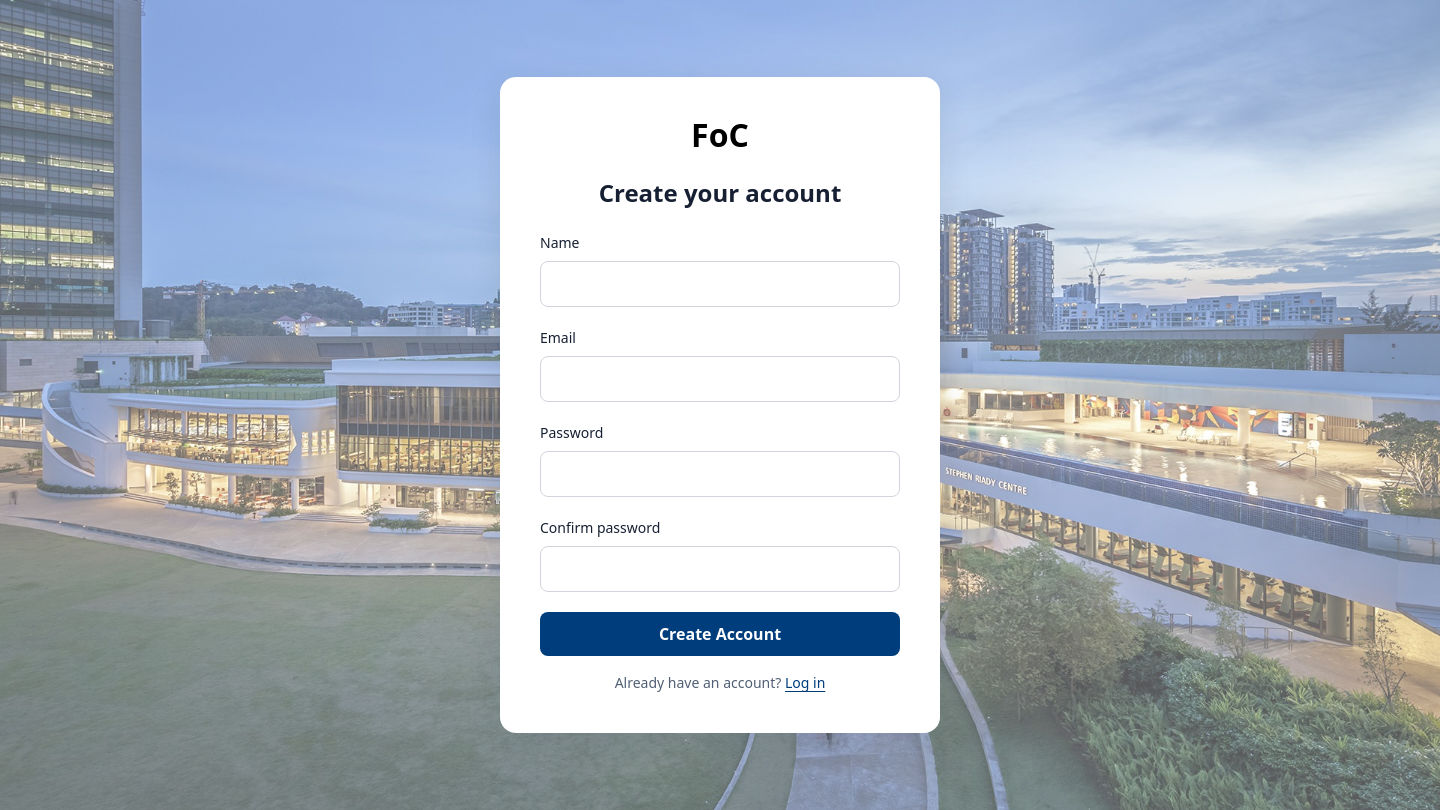
Scenario: RegisterPage › handles a network failure without navigating
Expected: the heading "Create your account" is shown, left=599, top=176, right=841, bottom=209
Type " Jamie " into the field labelled "Name". click: {"x": 720, "y": 284}
box: left=540, top=262, right=900, bottom=308
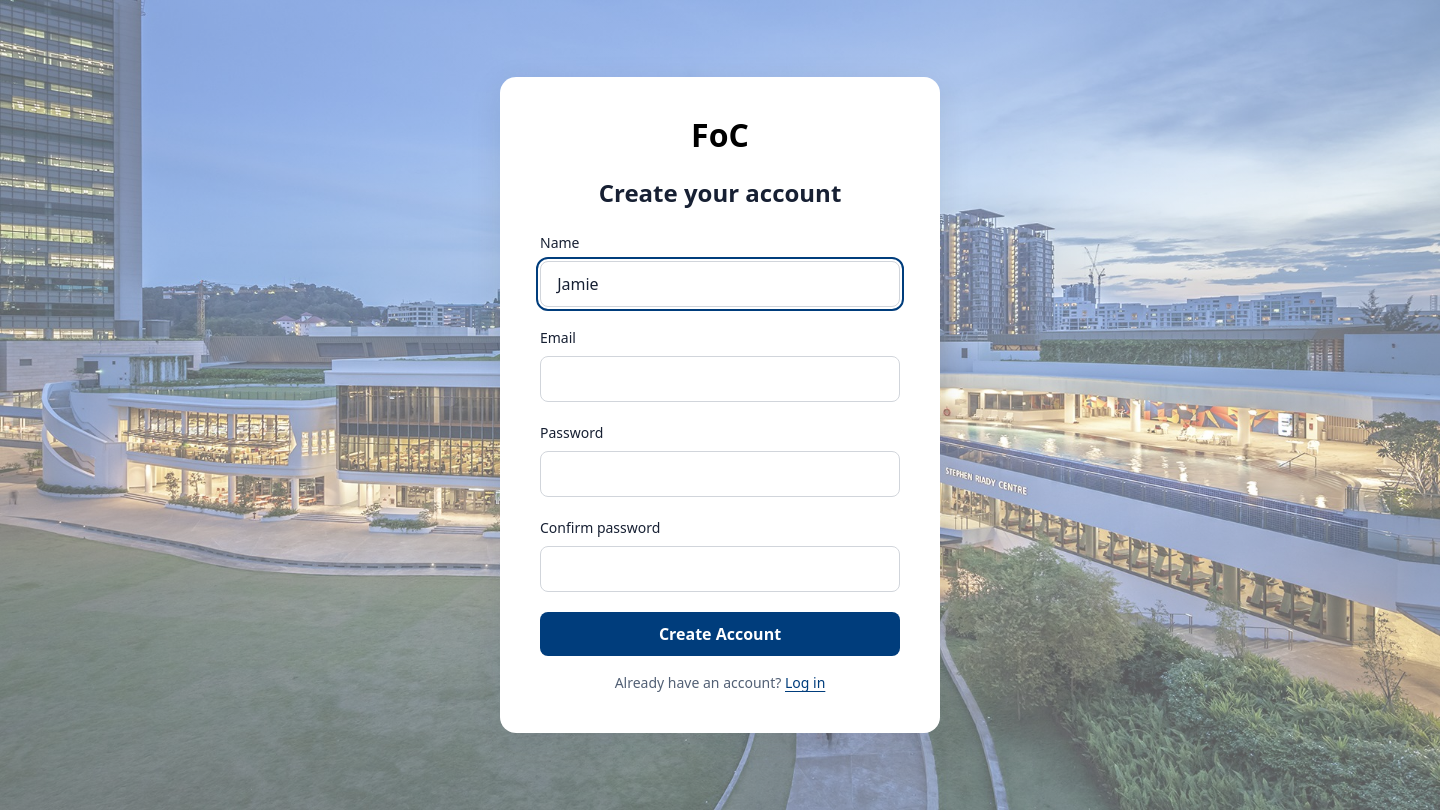
Type " JAMIE@U.NUS.EDU " into the field labelled "Email". click: {"x": 720, "y": 380}
box: left=540, top=356, right=900, bottom=402
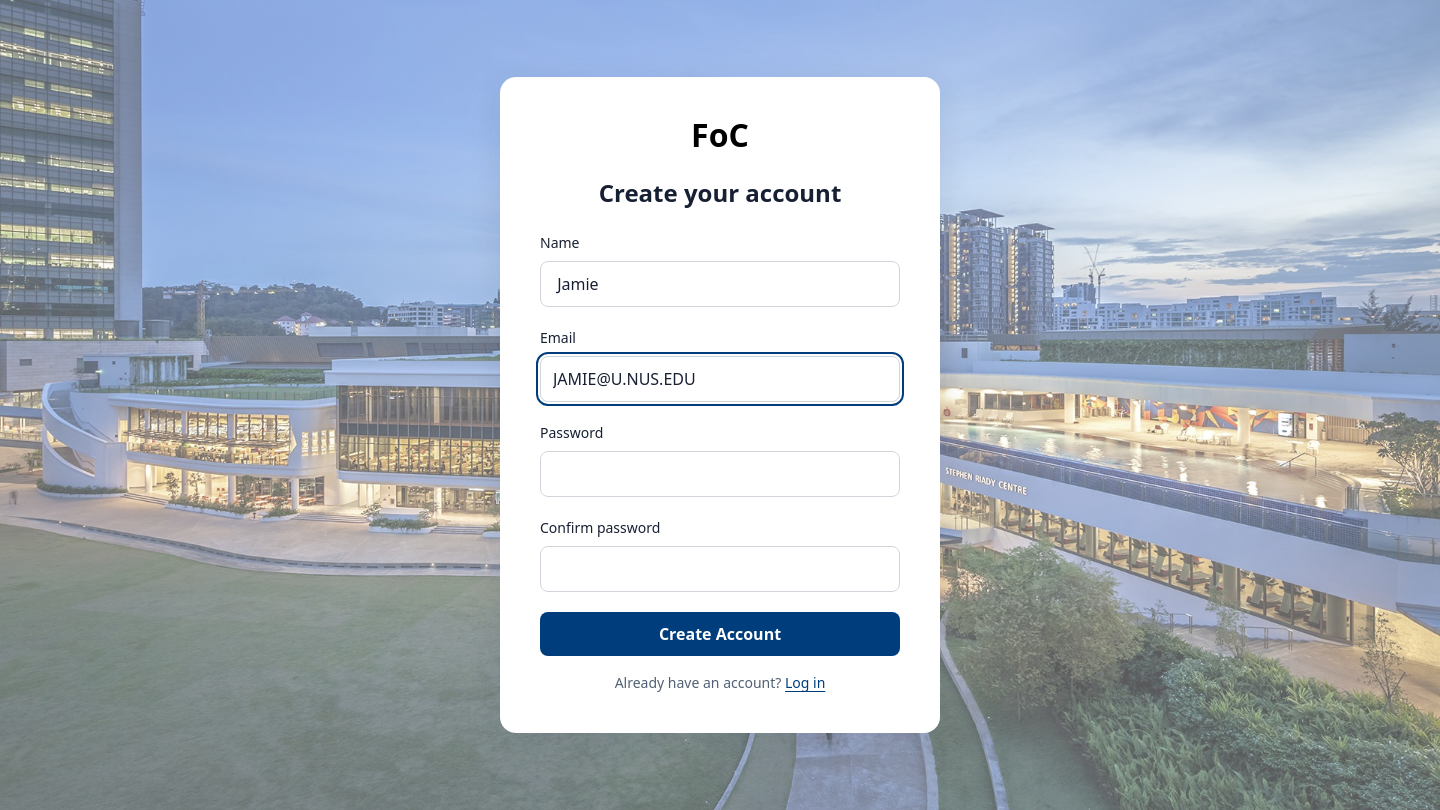
Type " password123 " into the password field labelled "Password". click: {"x": 720, "y": 474}
box: left=540, top=452, right=900, bottom=498
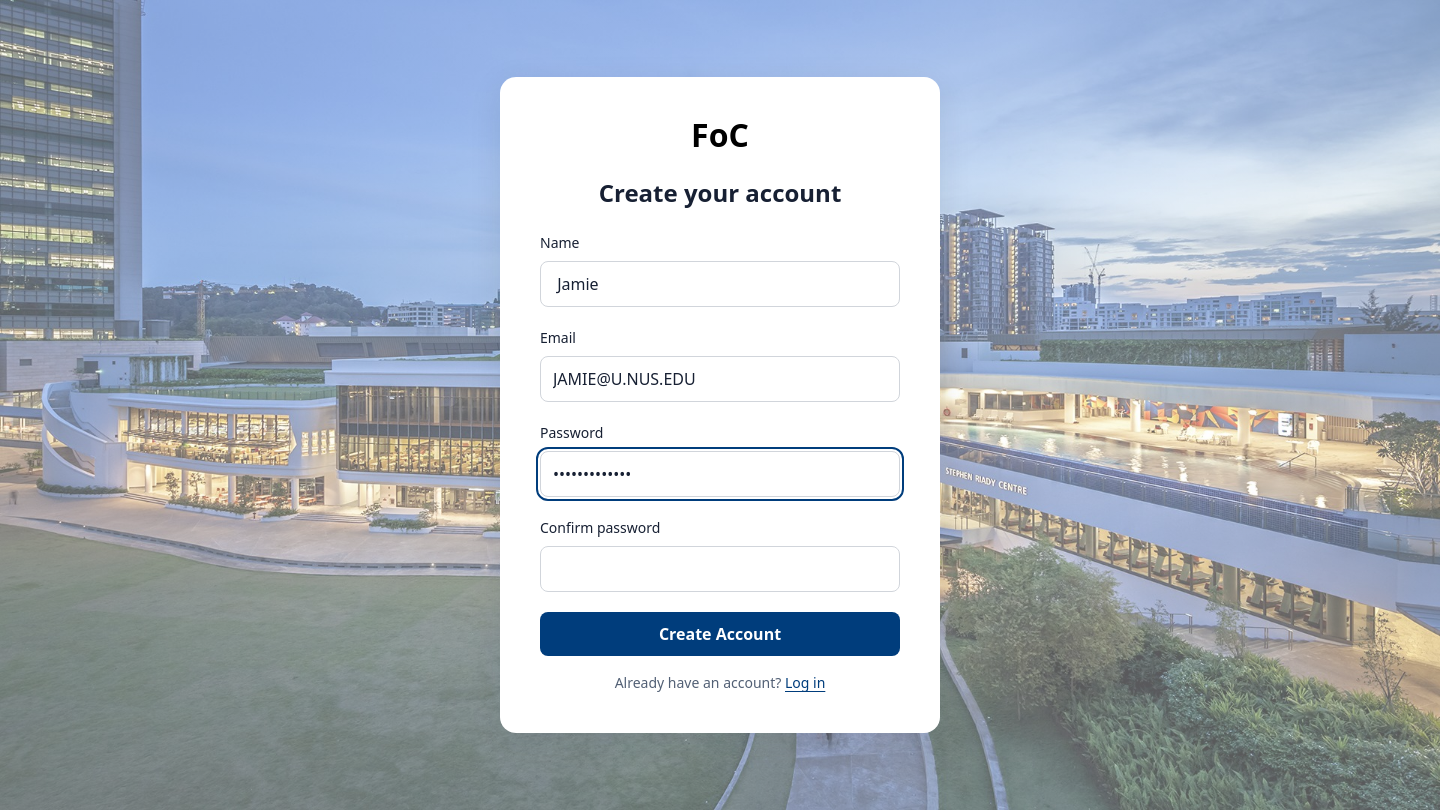
Type " password123 " into the password field labelled "Confirm password". click: {"x": 720, "y": 570}
box: left=540, top=546, right=900, bottom=592
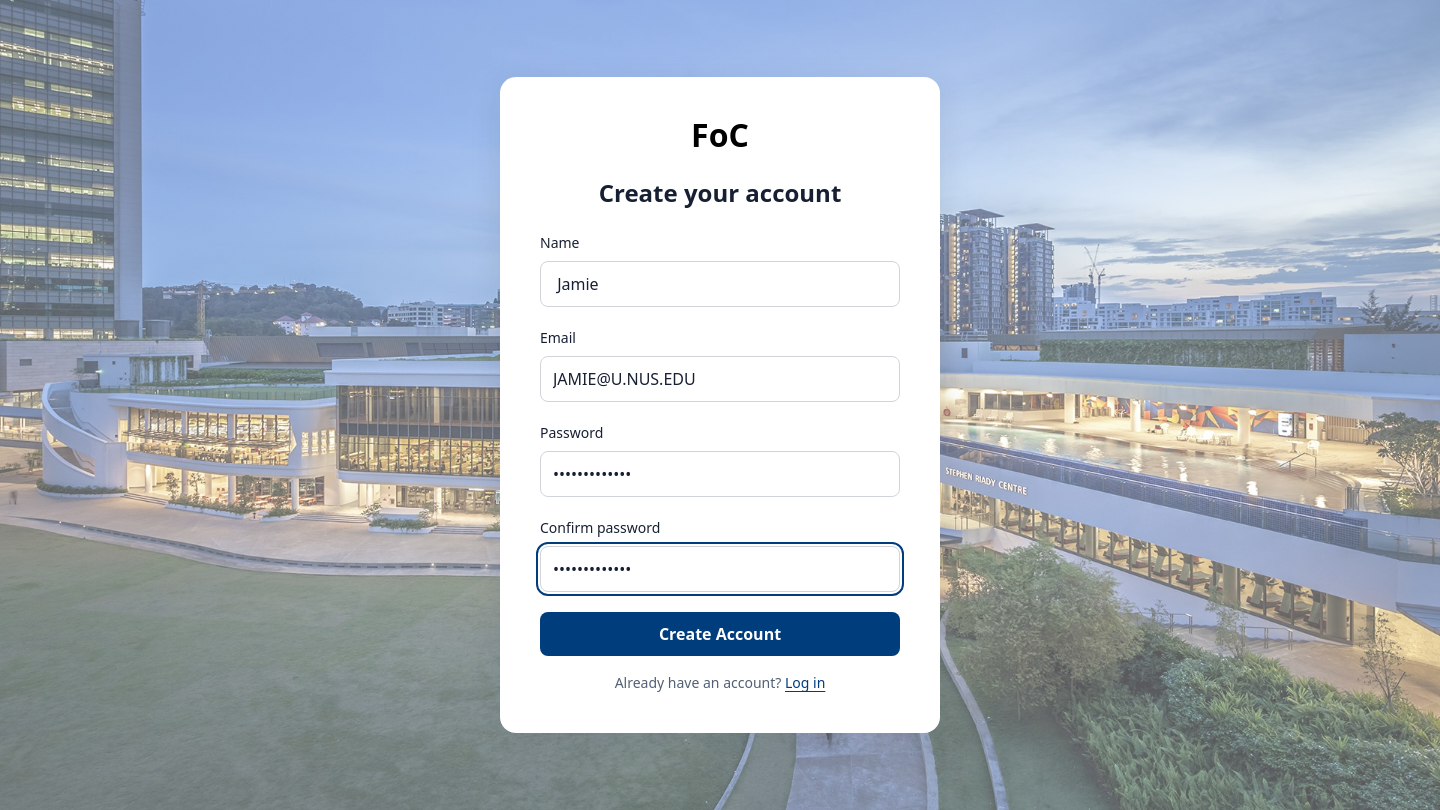
Click the button "Create Account". click: {"x": 720, "y": 634}
box: left=540, top=612, right=900, bottom=656
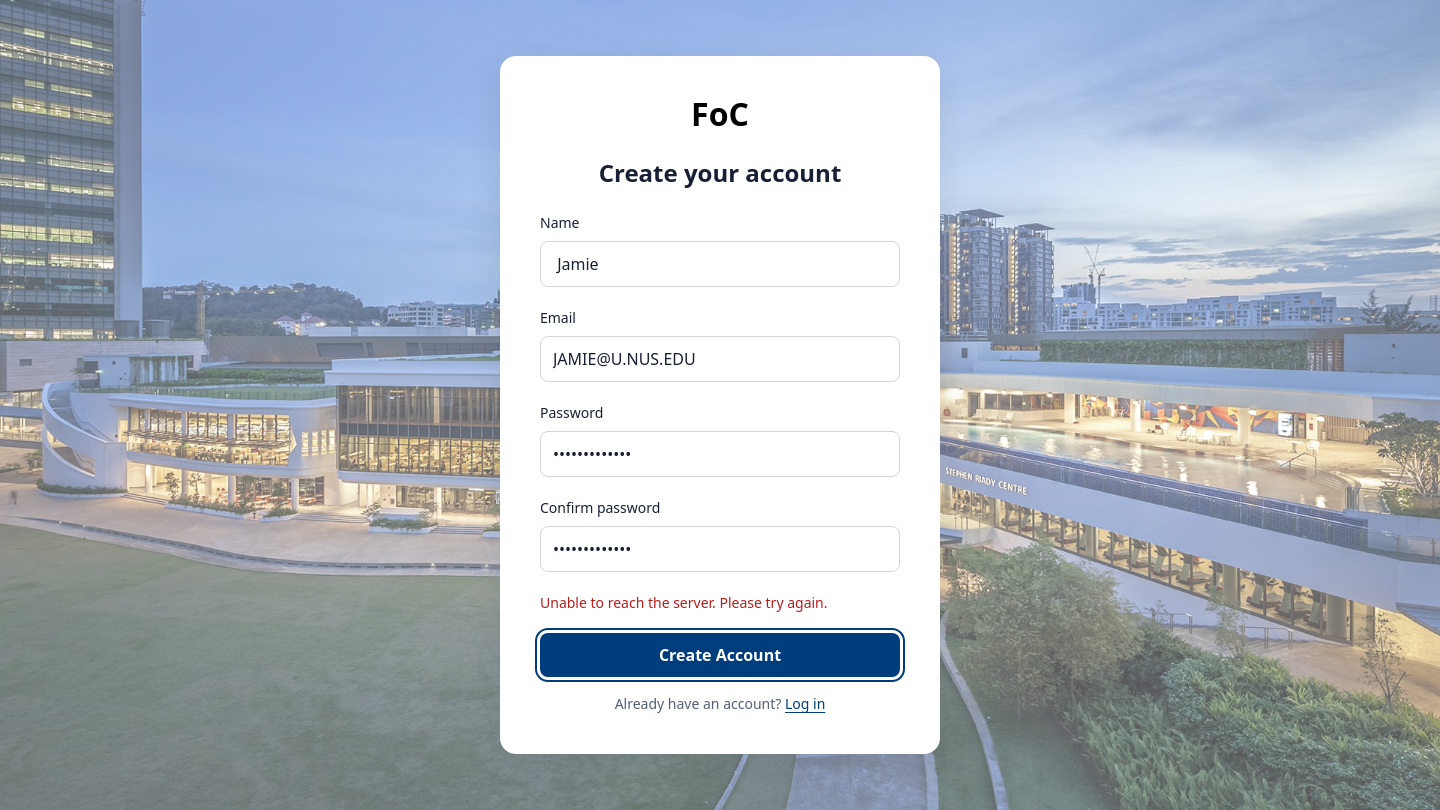
Expected: the button "Create Account" is enabled, left=540, top=633, right=900, bottom=677
Expected: the message reads "Unable to reach the server. Please try again.", left=540, top=593, right=828, bottom=612
